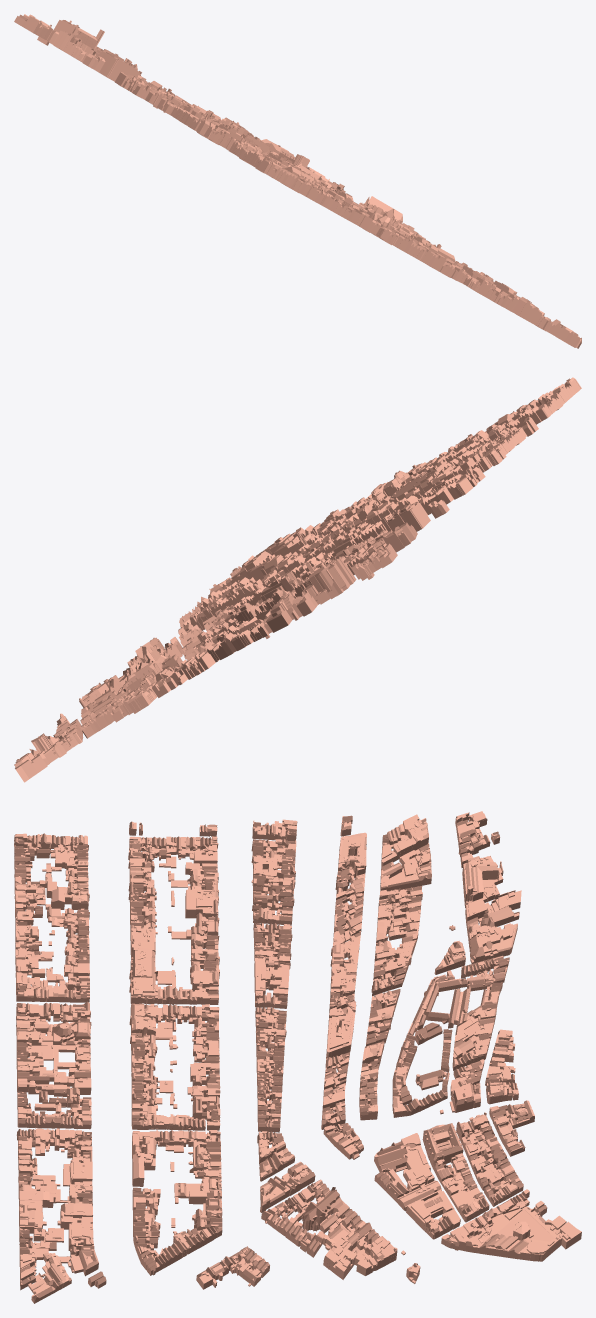
3 views of the same model, one above another, from view 1: azimuth 30°, elevation 25°; view 2: azimuth 150°, elevation 25°; view 3: azimuth 270°, elevation 25° (orthographic). The views are drawn at different scales.
Size of the model in its own units: 1.8e+07 by 1.3e+07 by 2.19e+07.
